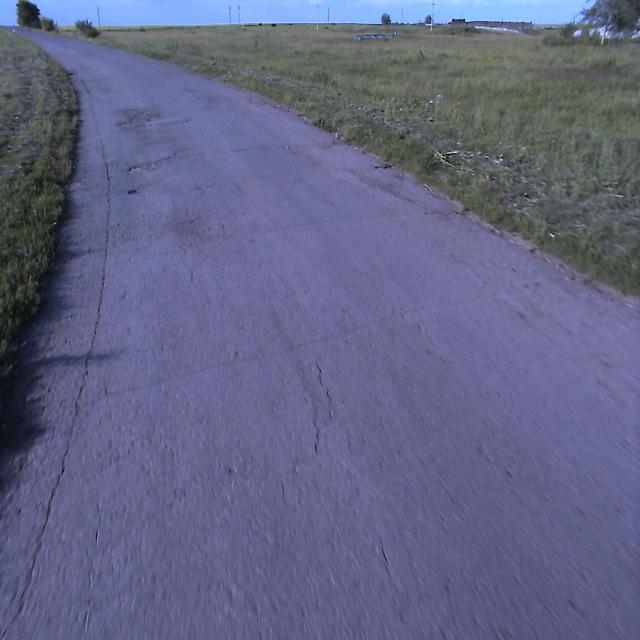road: (0, 26, 640, 639)
